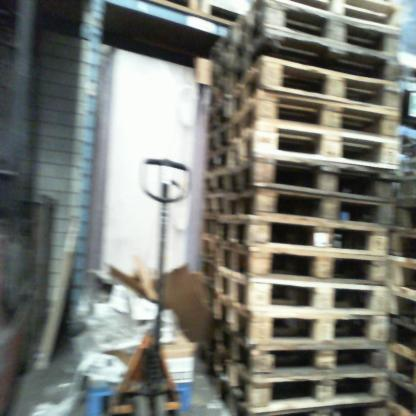pallet: (236, 0, 400, 60), (214, 359, 393, 410), (213, 299, 390, 350), (233, 59, 404, 111), (231, 89, 403, 140), (214, 335, 393, 383), (216, 269, 390, 318), (218, 243, 387, 289), (219, 216, 390, 259), (227, 187, 396, 228), (229, 123, 402, 162), (226, 158, 400, 193), (217, 384, 391, 416), (278, 0, 399, 32), (85, 380, 190, 416), (387, 258, 416, 297), (388, 316, 415, 357), (391, 347, 416, 389), (391, 285, 416, 327), (205, 93, 231, 129), (205, 72, 233, 105), (389, 230, 415, 264), (208, 46, 233, 80), (394, 198, 416, 234), (202, 189, 228, 219), (392, 384, 416, 416), (206, 146, 233, 172), (207, 122, 230, 152), (198, 254, 217, 283), (199, 233, 220, 259), (213, 29, 236, 52), (203, 171, 228, 192), (199, 215, 220, 238), (395, 177, 416, 200)
pallet_truck: (108, 156, 194, 415)
